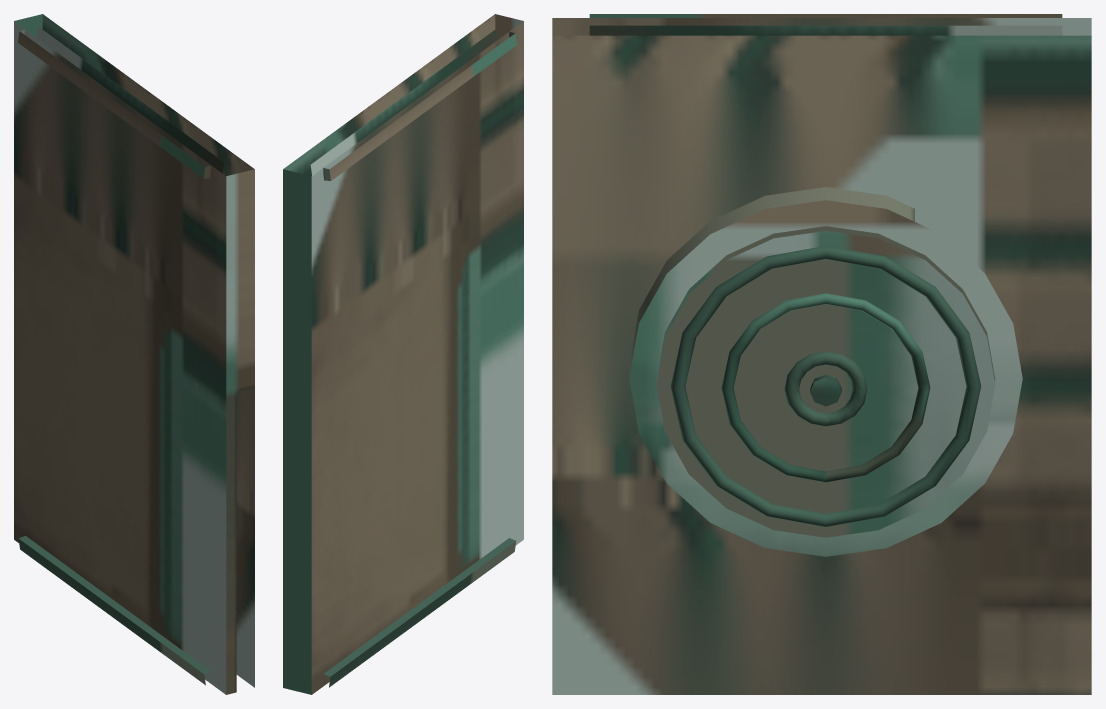
The model's file is section-4.obj.
3 renders of one model, left to right at view 1: azimuth 30°, elevation 25°; view 2: azimuth 150°, elevation 25°; view 3: azimuth 270°, elevation 25°, orthographic. The views are drawn at different scales.
Bounding box in the file's own units: 0.1602 × 1 × 0.7411.
